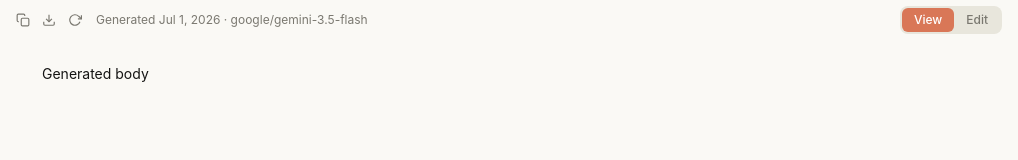
TabContentView export menu › opens a format-neutral menu with Markdown and PDF descriptions
Click the button named "Export Tab".
click(49, 20)  # box x1=36 y1=7 x2=62 y2=33
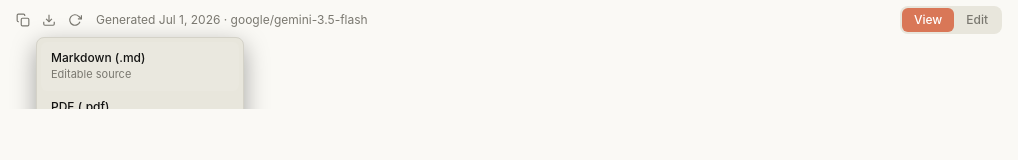
Expected: the menu is shown, x1=36 y1=37 x2=244 y2=109
Expected: the menu item "Markdown (.md) Editable source" is shown, x1=41 y1=42 x2=239 y2=90
